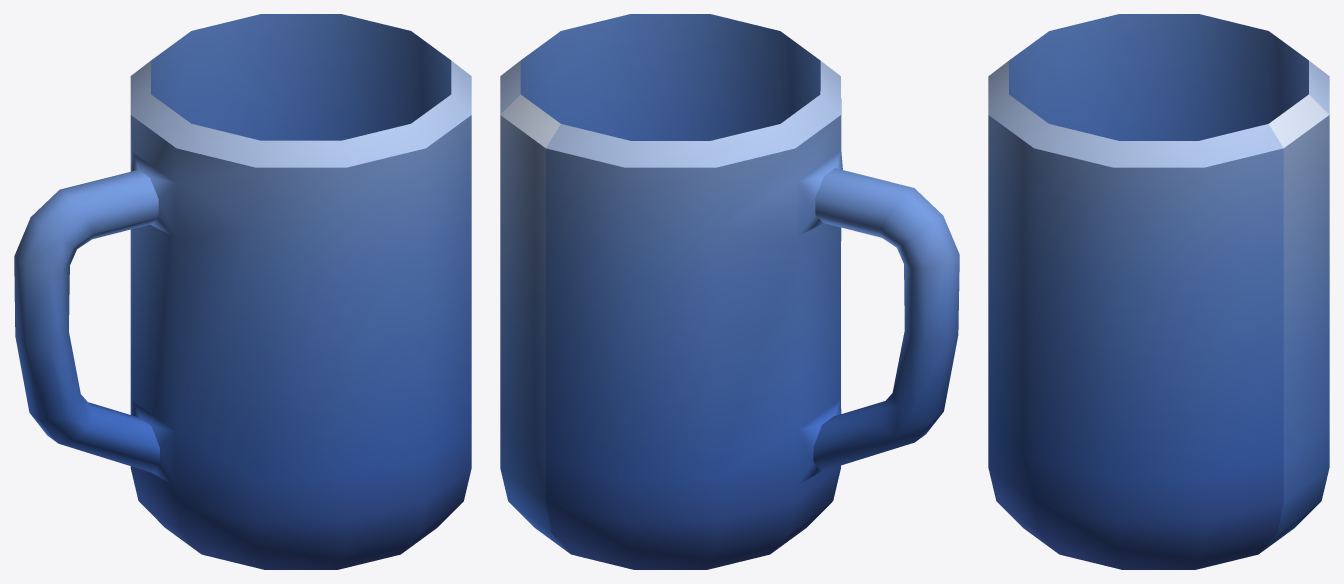
File: m_GlassMug01.fbx
The picture shows the model from 3 angles, left to right: view 1: azimuth 30°, elevation 25°; view 2: azimuth 150°, elevation 25°; view 3: azimuth 270°, elevation 25°; orthographic projection.
Parts seen in each view (by area): view 1: m_GlassMug01; view 2: m_GlassMug01; view 3: m_GlassMug01.
Boxes of the visible parts, left/top/right/bottom form: m_GlassMug01: left=14, top=14, right=471, bottom=569; m_GlassMug01: left=500, top=14, right=959, bottom=569; m_GlassMug01: left=988, top=14, right=1329, bottom=569.
Bounding box in the file's own units: 11.37 × 10.99 × 7.81.
